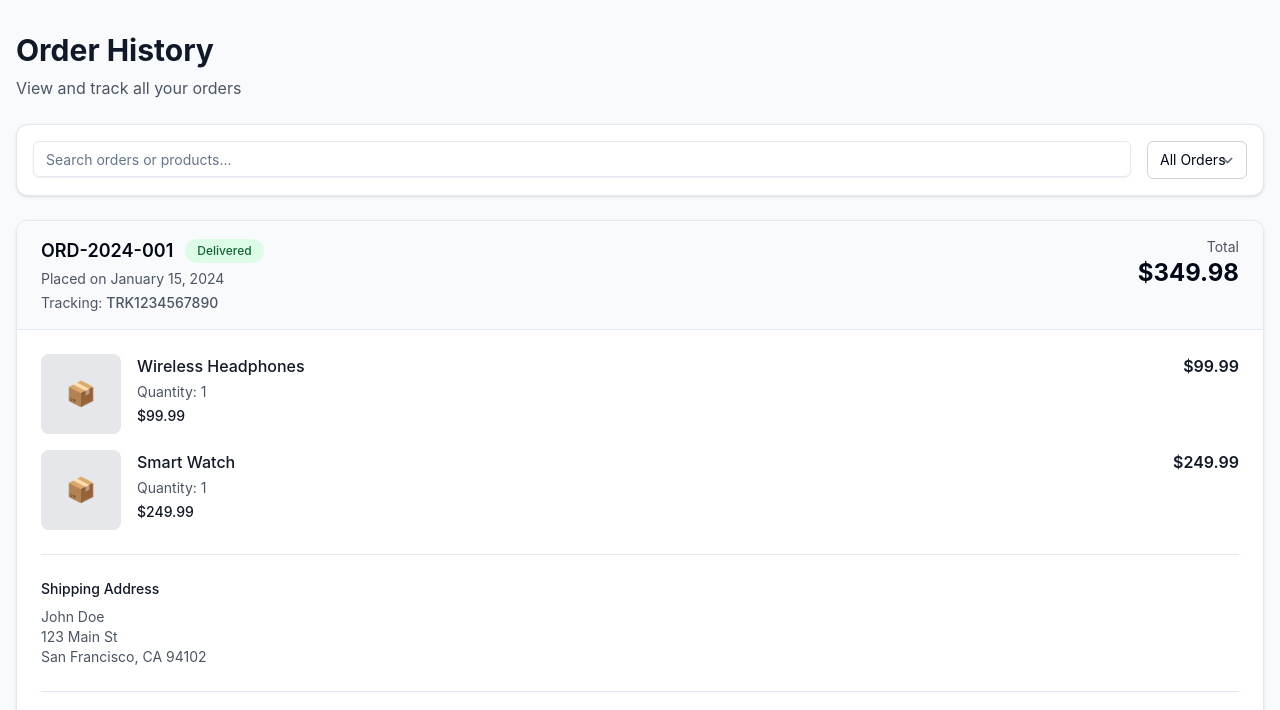
Test: OrderHistoryPage - Status Filter › should filter orders by shipped status
The width and height of the screenshot is (1280, 710).
Select "Shipped" in the dropdown with test id "status-filter" at {"x": 1197, "y": 160}, box x1=1147 y1=141 x2=1247 y2=179
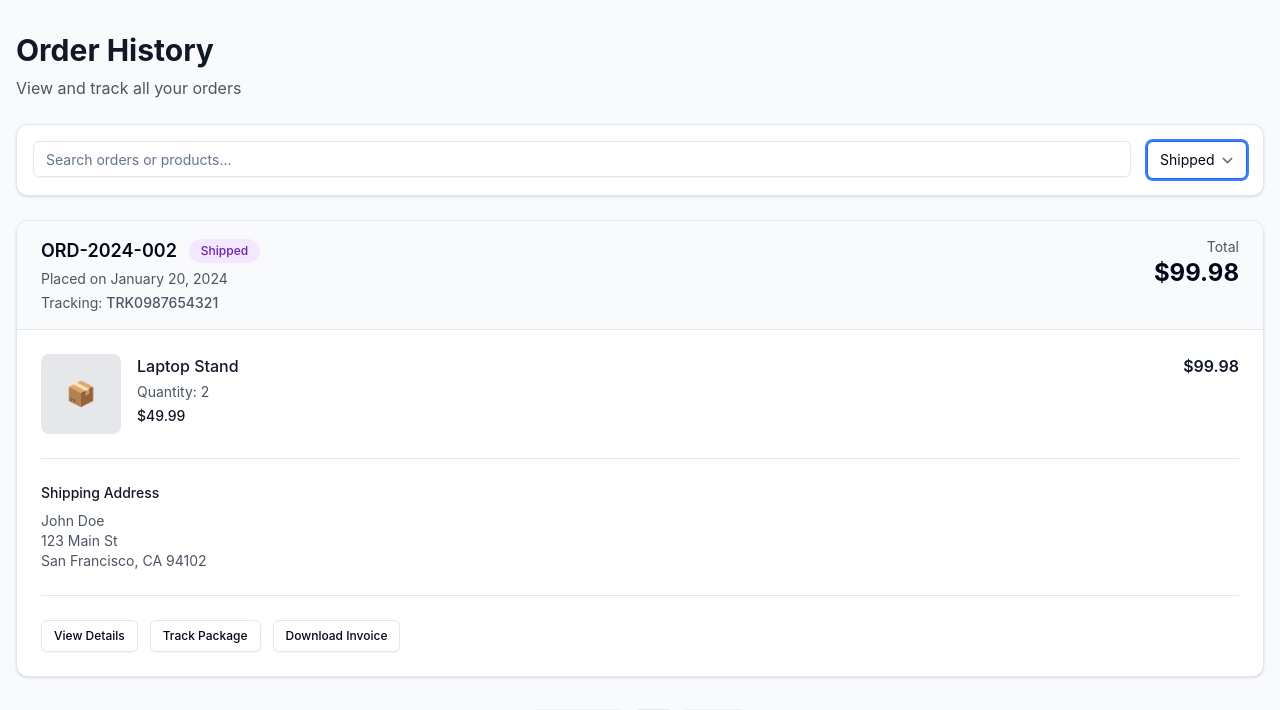
Expected: the heading "ORD-2024-002" is shown, x1=41 y1=237 x2=177 y2=265
Result: the heading "ORD-2024-001" is gone
